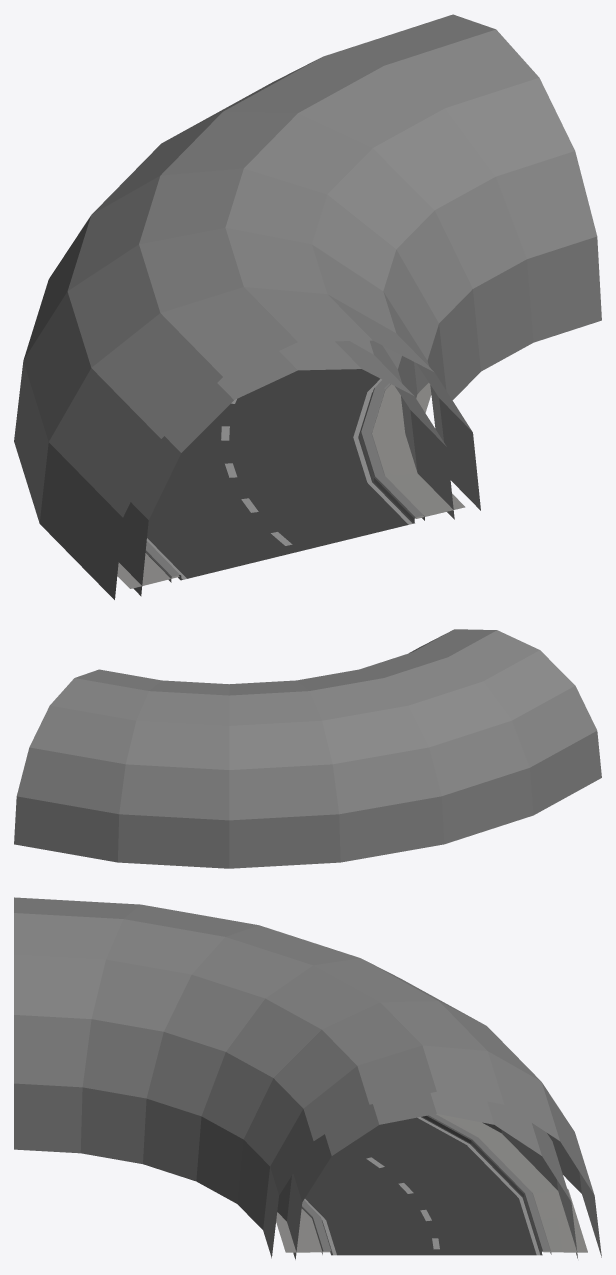
Rendered from SM_Envr_Nature_Mountain_Tunnel_Road_Corner.fbx.
The picture shows the model from 3 angles, top to bottom: view 1: azimuth 30°, elevation 25°; view 2: azimuth 150°, elevation 25°; view 3: azimuth 270°, elevation 25°; orthographic projection. The views are drawn at different scales.
Parts seen in each view (by area): view 1: SM_Envr_Nature_Mountain_Tunnel_Road_Corner; view 2: SM_Envr_Nature_Mountain_Tunnel_Road_Corner; view 3: SM_Envr_Nature_Mountain_Tunnel_Road_Corner.
Part boxes in pixels (<box>): SM_Envr_Nature_Mountain_Tunnel_Road_Corner: <box>14,14,601,599</box>; SM_Envr_Nature_Mountain_Tunnel_Road_Corner: <box>14,629,601,868</box>; SM_Envr_Nature_Mountain_Tunnel_Road_Corner: <box>14,897,601,1259</box>.
Bounding box in the file's own units: 2781 × 881 × 2781.
